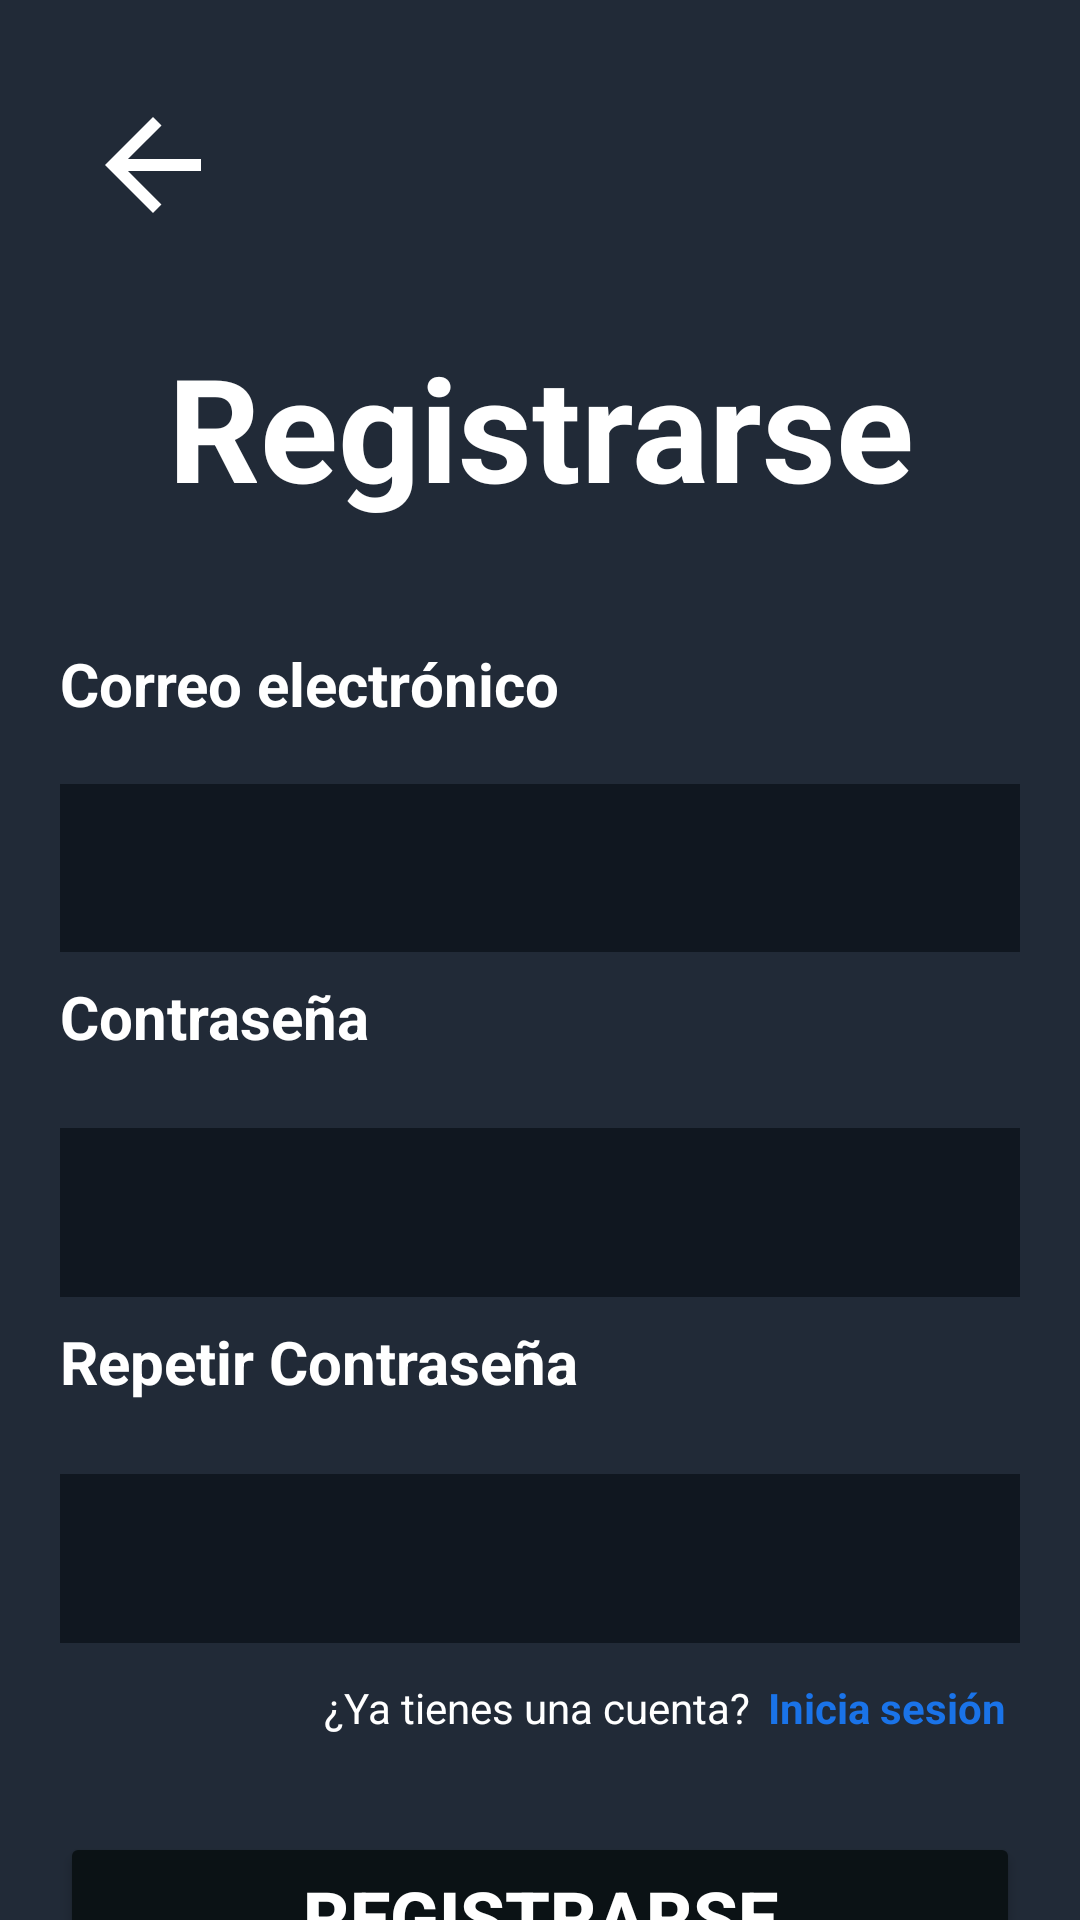

Icons on this 1080×1920 Android screen, each with its box as [x1=x1, y1=y1, x2=x2, y2=y2]:
arrow back: [x1=105, y1=117, x2=201, y2=213]
